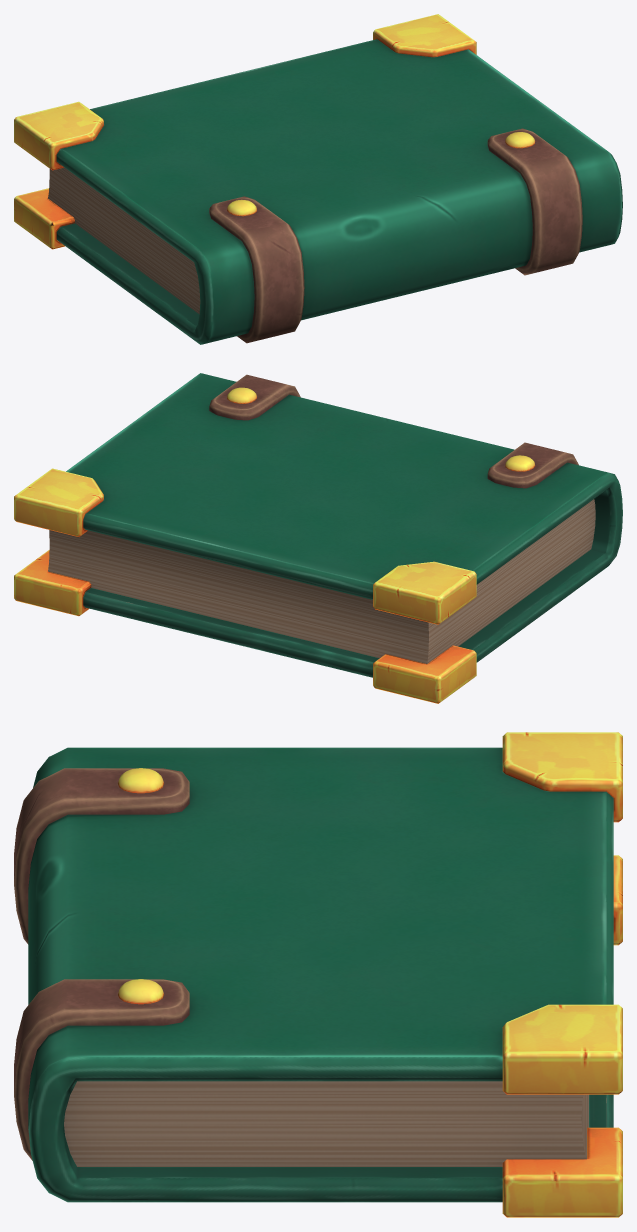
File: SM_Book_Green.fbx
3 renders of one model, top to bottom at view 1: azimuth 30°, elevation 25°; view 2: azimuth 150°, elevation 25°; view 3: azimuth 270°, elevation 25°, orthographic. The views are drawn at different scales.
Visible parts, largest first — view 1: SM_Book_Green_LOD0; view 2: SM_Book_Green_LOD0; view 3: SM_Book_Green_LOD0.
Boxes of the visible parts, x1=… form: SM_Book_Green_LOD0: x1=14, y1=14, x2=622, y2=344; SM_Book_Green_LOD0: x1=14, y1=373, x2=622, y2=703; SM_Book_Green_LOD0: x1=14, y1=732, x2=622, y2=1217.
Bounding box in the file's own units: 32.29 × 25.69 × 9.12.
1 material, 1 textured.
